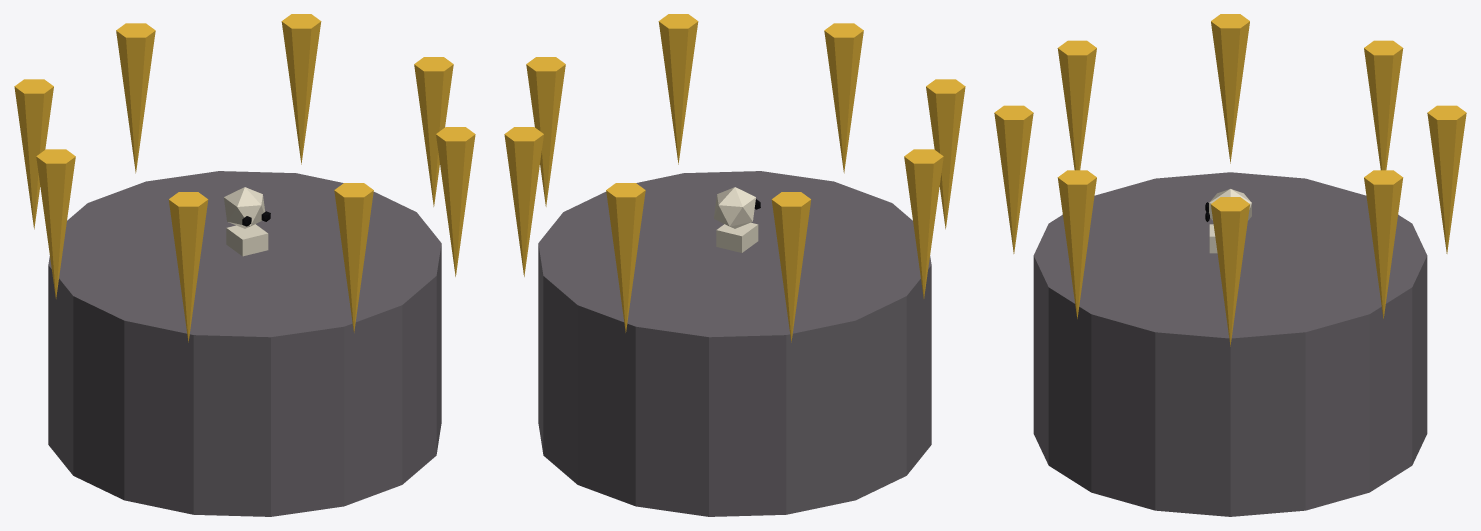
Rendered from Bld_OR_Cistern_00.glb.
The picture shows the model from 3 angles, left to right: view 1: azimuth 30°, elevation 25°; view 2: azimuth 150°, elevation 25°; view 3: azimuth 270°, elevation 25°; orthographic projection.
Visible parts, largest first — view 1: Bld_OR_Cistern_00; view 2: Bld_OR_Cistern_00; view 3: Bld_OR_Cistern_00.
Part boxes in pixels (box(x1,y1,x2,y2)): Bld_OR_Cistern_00: box(14, 14, 475, 516); Bld_OR_Cistern_00: box(504, 14, 965, 516); Bld_OR_Cistern_00: box(994, 14, 1466, 516).
Size of the model in its own units: 7.12 by 5.4 by 7.2.
